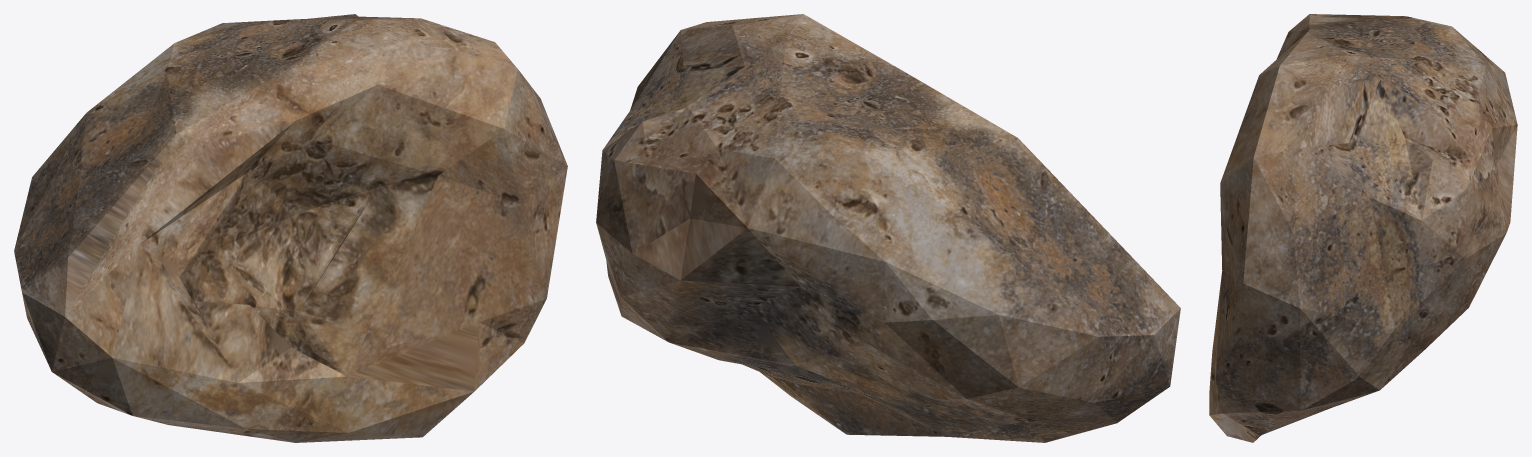
Rendered from stone3_low.obj.
3 renders of one model, left to right at view 1: azimuth 30°, elevation 25°; view 2: azimuth 150°, elevation 25°; view 3: azimuth 270°, elevation 25°, orthographic. The views are drawn at different scales.
Parts seen in each view (by area): view 1: stone3_low; view 2: stone3_low; view 3: stone3_low.
Part boxes in pixels (x1=…): stone3_low: x1=14, y1=14, x2=567, y2=442; stone3_low: x1=596, y1=14, x2=1180, y2=442; stone3_low: x1=1209, y1=14, x2=1517, y2=442.
Size of the model in its own units: 1.04 by 0.7448 by 0.5399.
